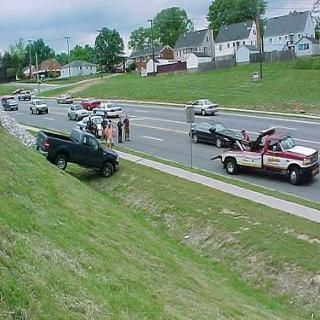Towing_truck: (210, 125, 320, 187)
